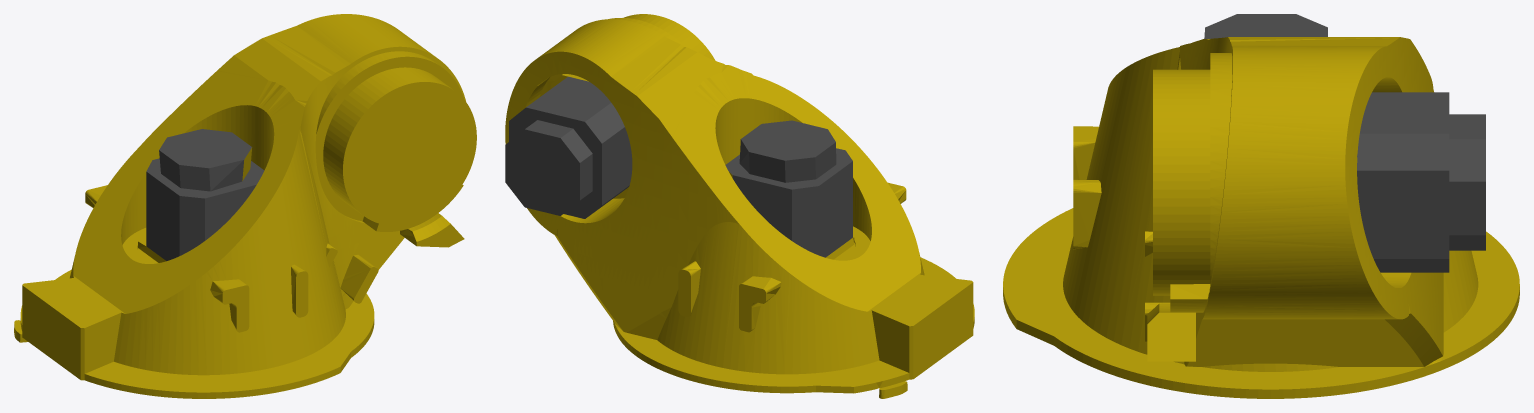
3 views of the same model, side by side, from view 1: azimuth 30°, elevation 25°; view 2: azimuth 150°, elevation 25°; view 3: azimuth 270°, elevation 25° (orthographic). The views are drawn at different scales.
Visible parts, largest first — view 1: Mesh; view 2: Mesh; view 3: Mesh.
Boxes of the visible parts, x1,y1,x2,y2 form: Mesh: (14,14,476,398); Mesh: (505,14,974,398); Mesh: (1003,14,1519,398).
Size of the model in its own units: 1 by 0.7711 by 0.603.
